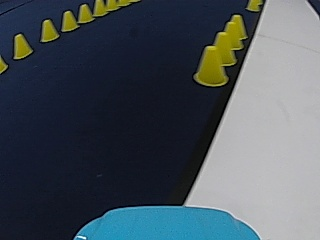cone: (193, 44, 227, 86), (210, 31, 235, 66), (225, 13, 247, 46), (222, 23, 242, 50), (12, 33, 32, 58), (39, 18, 58, 42), (60, 10, 77, 31), (77, 3, 92, 23), (93, 0, 105, 15), (246, 0, 260, 11)
